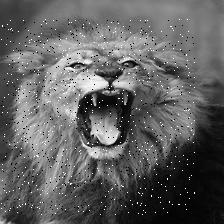Lion: (0, 19, 194, 215)
